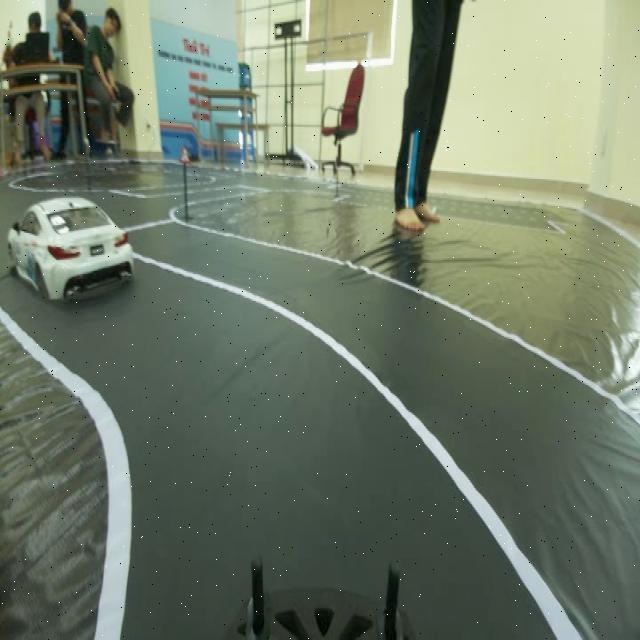car: (10, 178, 136, 316)
